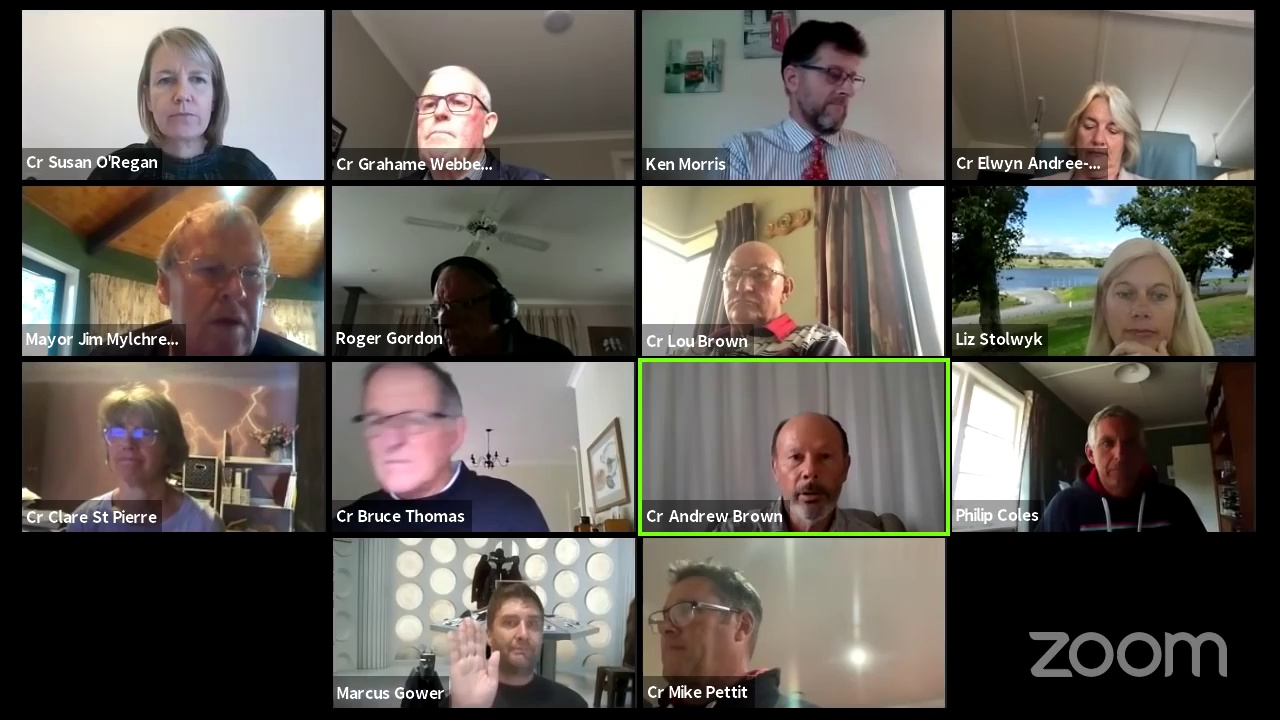Distracted: (416, 252, 531, 351), (779, 23, 876, 135), (1071, 80, 1144, 167)
Not Distracted: (158, 212, 272, 348), (357, 370, 475, 491), (411, 58, 502, 175), (1089, 250, 1190, 346), (652, 571, 745, 674), (767, 415, 858, 519), (136, 30, 222, 139), (97, 387, 184, 485), (1081, 401, 1153, 494), (716, 243, 793, 324), (485, 587, 551, 666)
